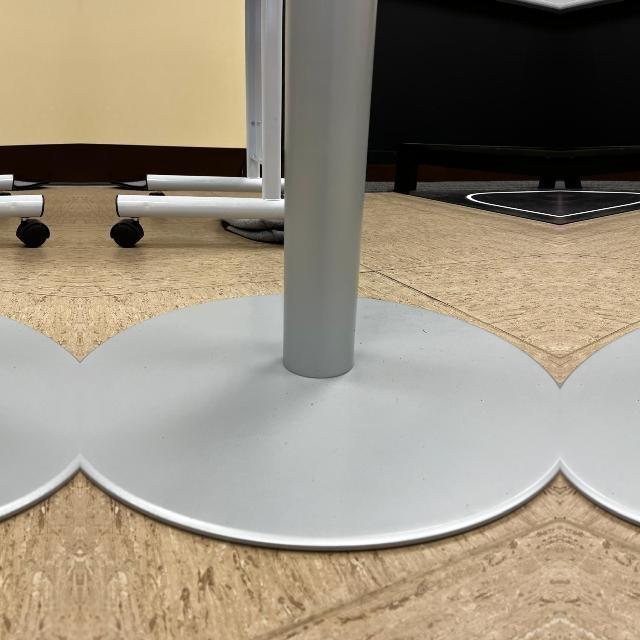obstacle: (80, 194, 556, 556), (0, 194, 80, 555), (564, 194, 640, 555), (105, 191, 285, 251), (0, 191, 55, 251)
